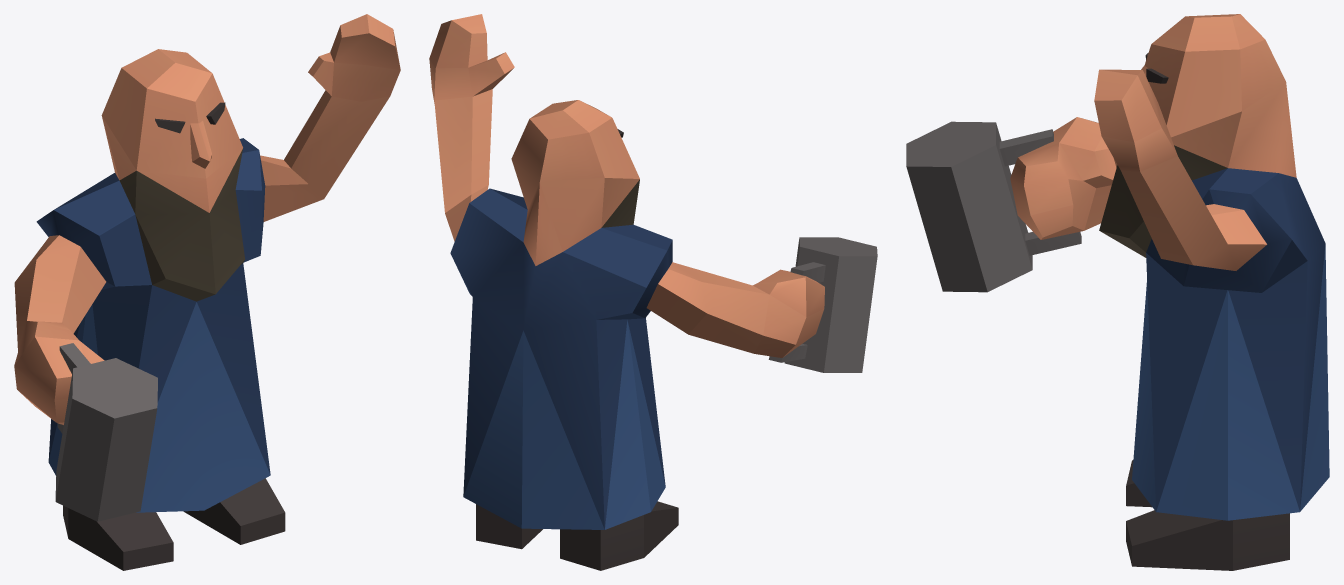
Rendered from tavernier.glb.
The picture shows the model from 3 angles, left to right: view 1: azimuth 30°, elevation 25°; view 2: azimuth 150°, elevation 25°; view 3: azimuth 270°, elevation 25°; orthographic projection. The views are drawn at different scales.
Visible parts, largest first — view 1: Object_2; view 2: Object_2; view 3: Object_2.
Boxes of the visible parts, box(x1,y1,x2,y2) form: Object_2: box(14, 14, 400, 570); Object_2: box(429, 14, 877, 570); Object_2: box(906, 14, 1329, 570).
Size of the model in its own units: 1.47 by 1.71 by 1.22.
1 material, 1 textured.
